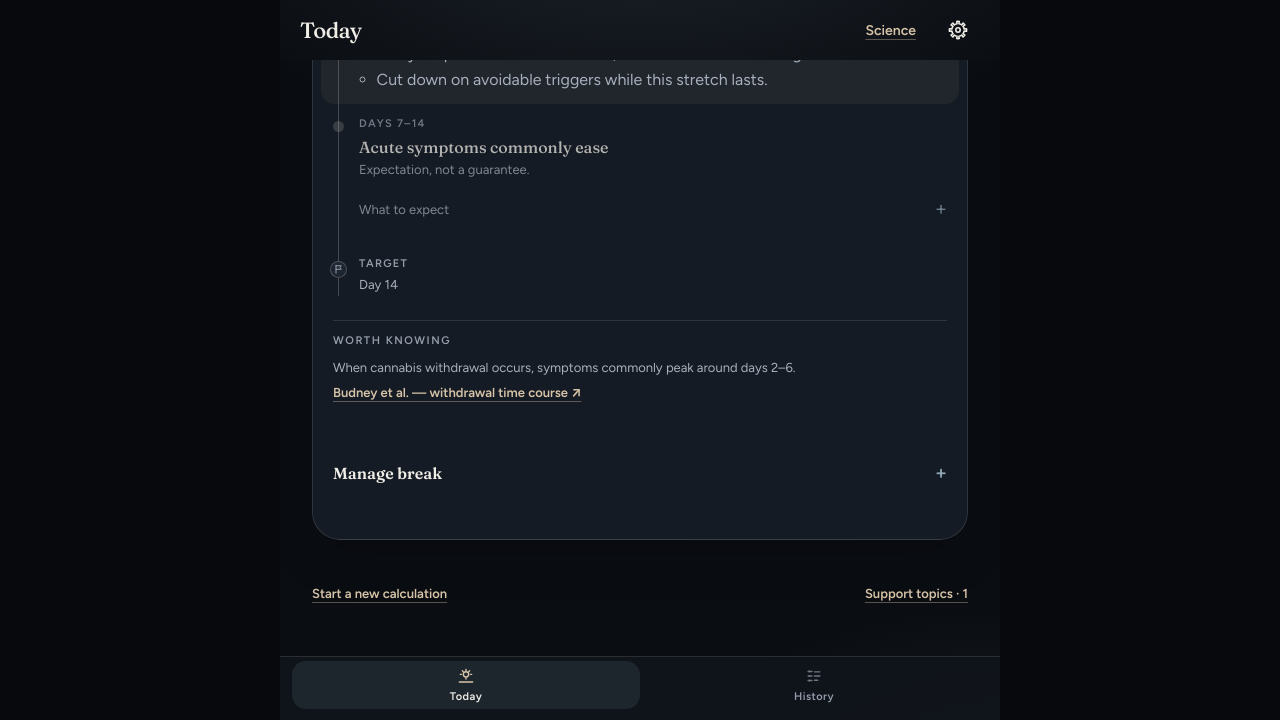
Test case: support topics › rebinds the topics saved mid-break to the day they were saved on
(page scrolled)
Click the button with test id "today-support".
click(916, 594)  # box [865, 572, 968, 616]
(page scrolled)
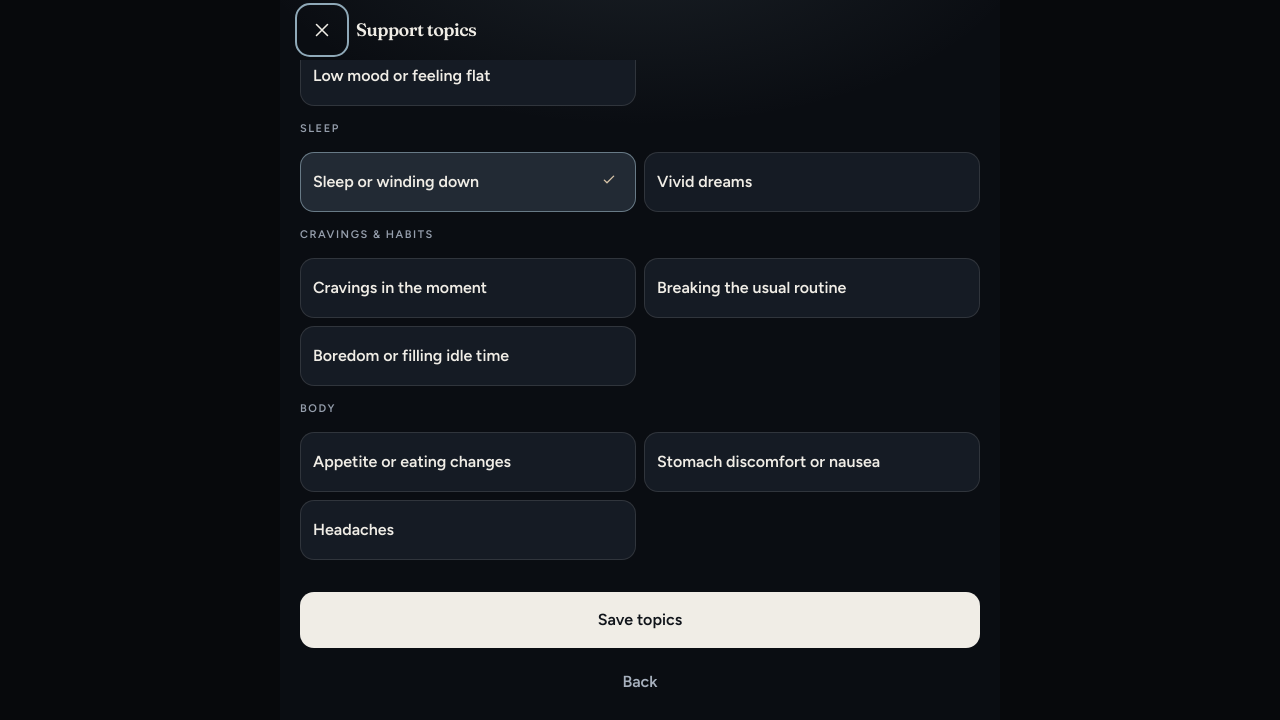
Click the button "Headaches".
click(354, 530)  # box [300, 500, 636, 560]
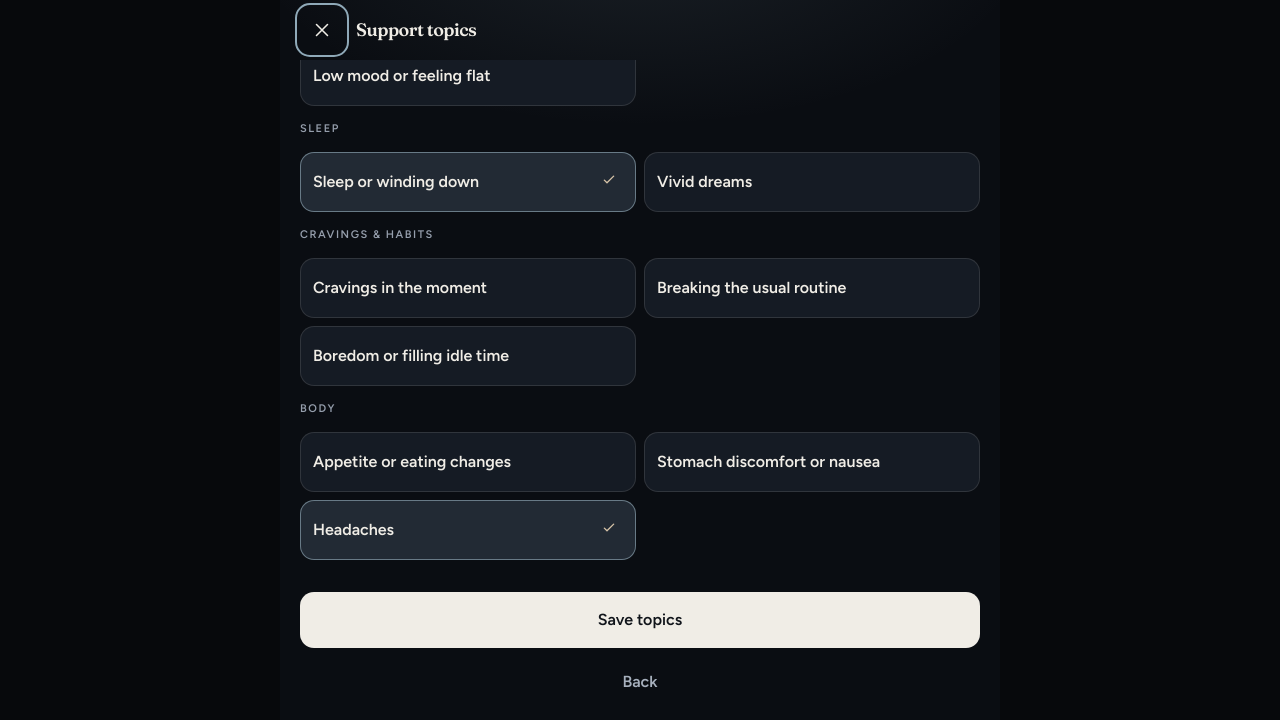
Click the button with test id "save-support-areas".
click(640, 620)  # box [300, 592, 980, 648]
(page scrolled)
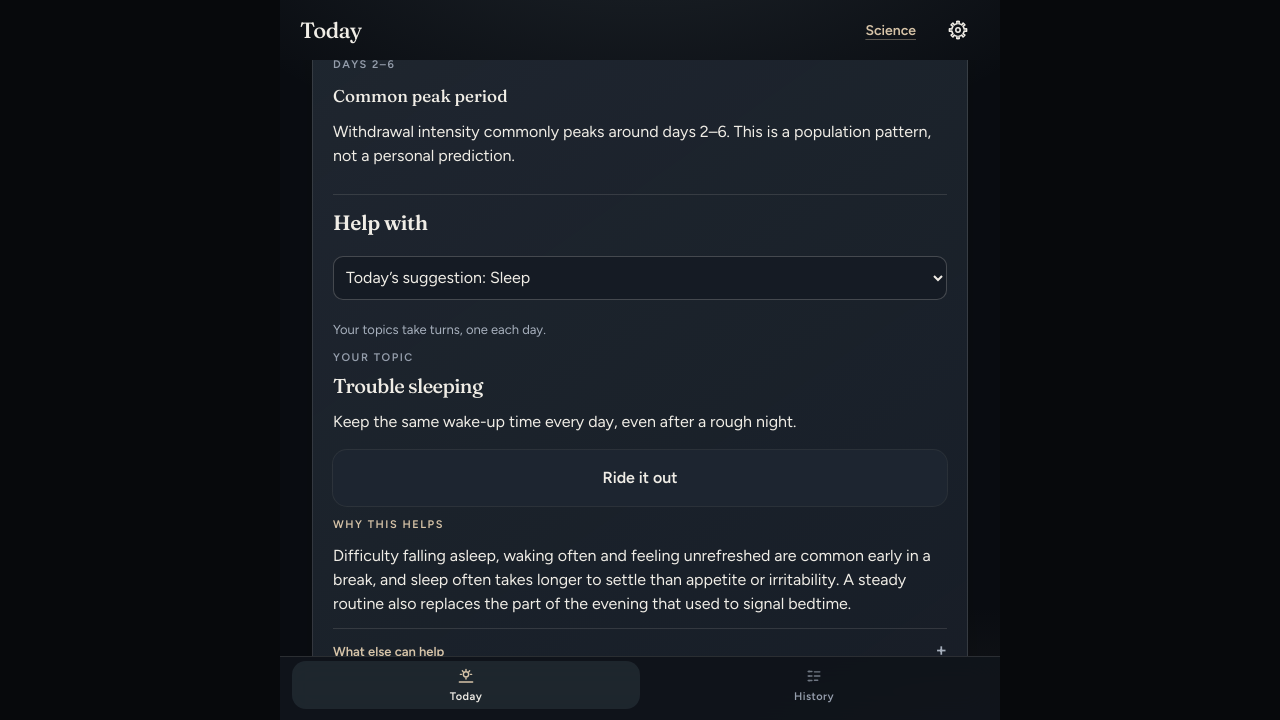
Expected: the text with test id "advice-source" reads "Your topic", [333, 351, 414, 364]
